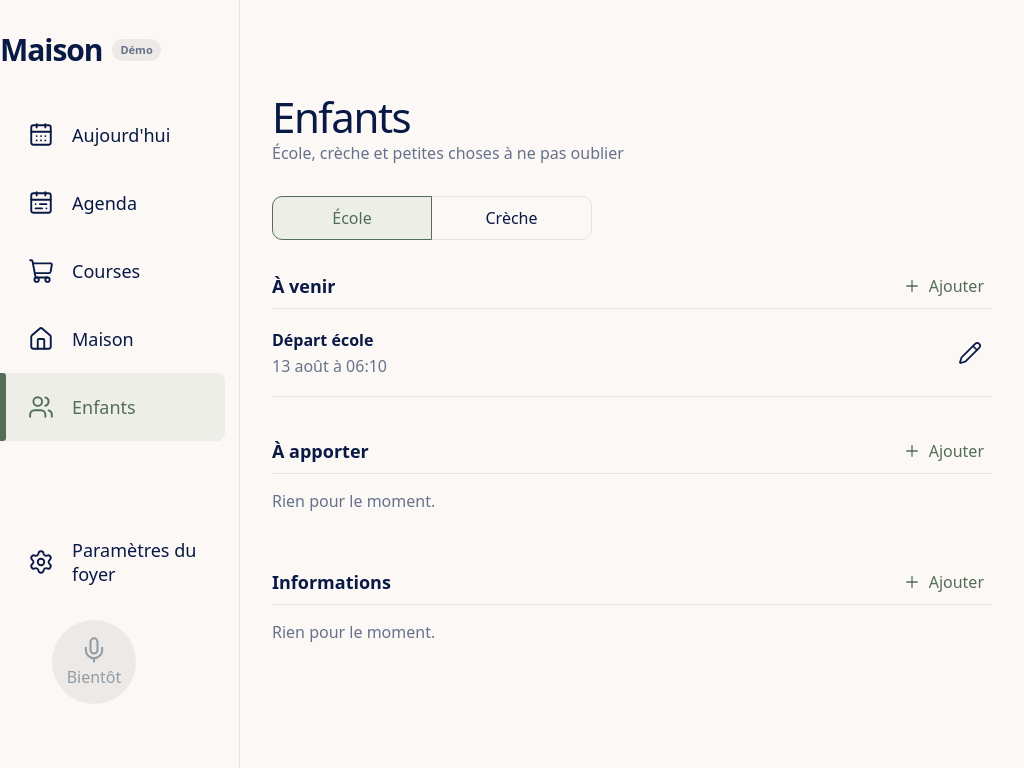
switches École and Crèche and creates an À apporter item locally
This screenshot has width=1024, height=768.
Click the link "Crèche".
click(512, 218)  # box [431, 196, 592, 240]
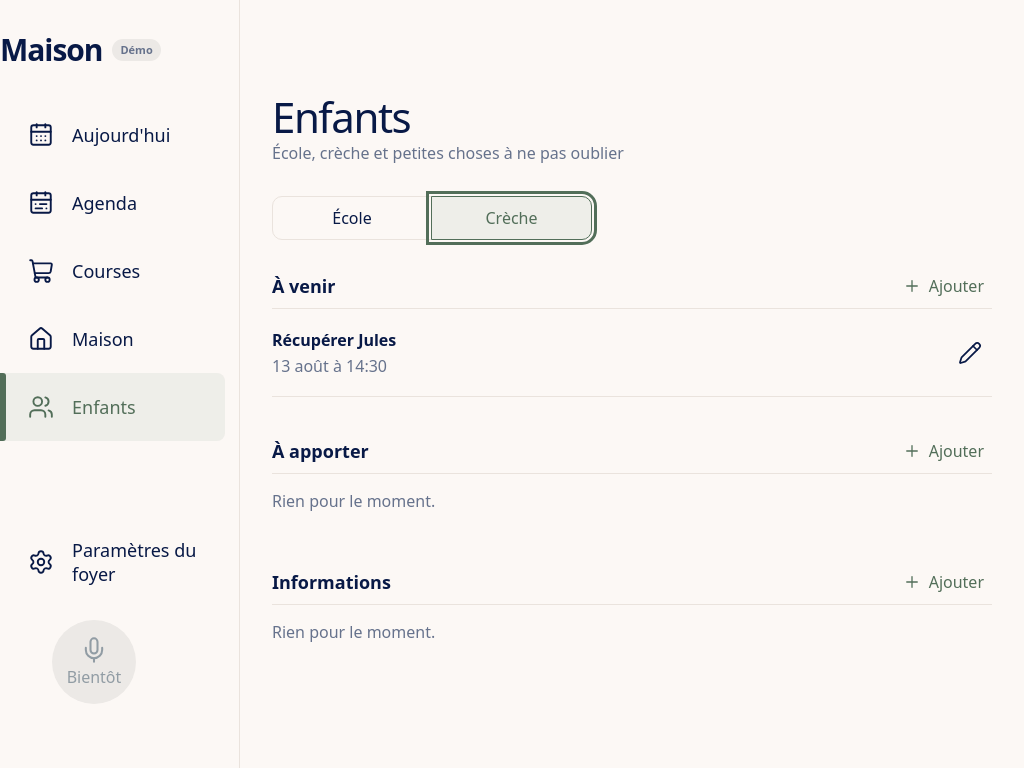
Result: the text "Récupérer Jules" is shown at [272, 328, 396, 350]
Click the link "École".
click(352, 218)  # box [272, 196, 432, 240]
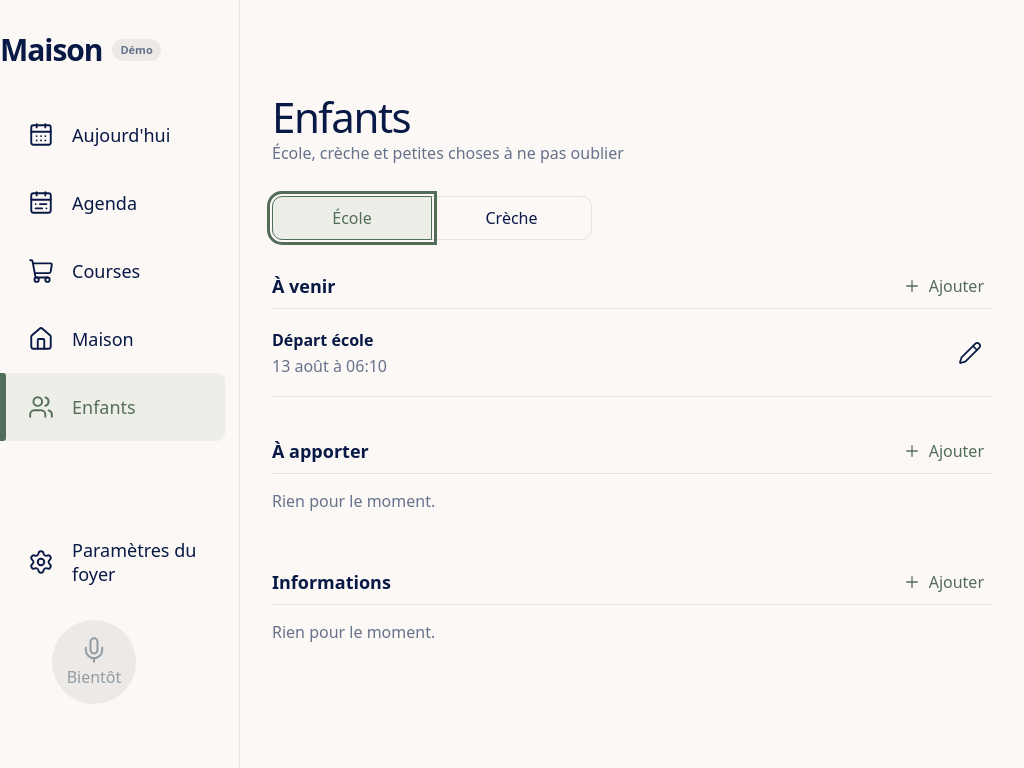
Click the button "Ajouter" in the row of "À apporter".
click(943, 451)  # box [895, 429, 992, 473]
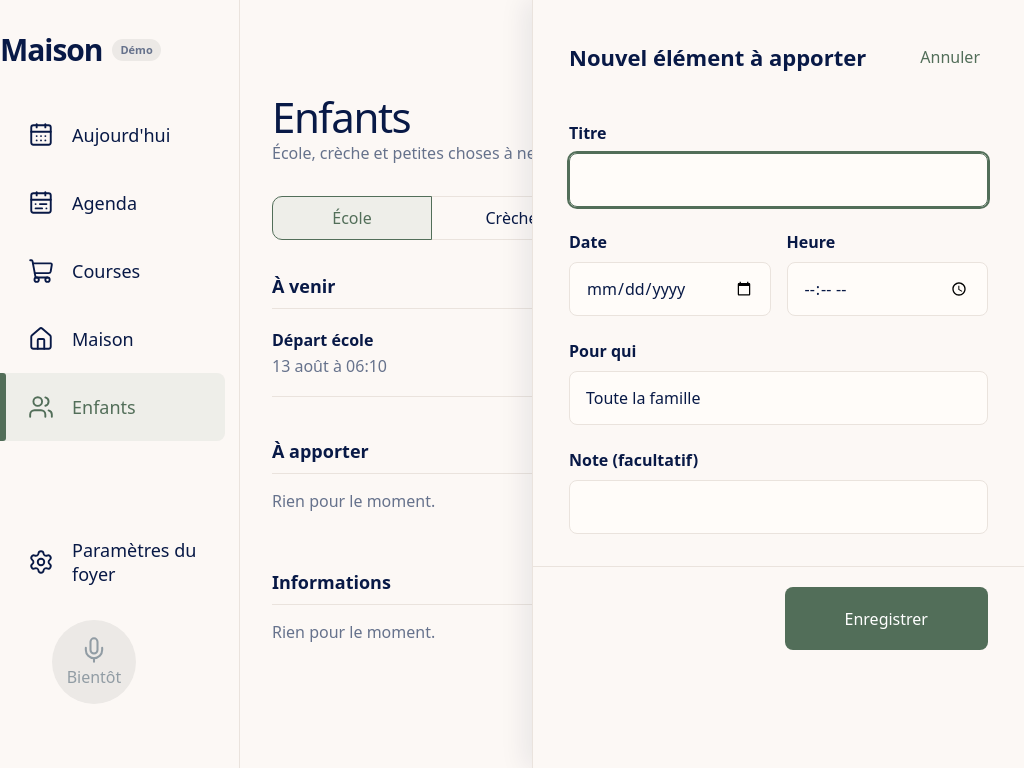
Type "Autorisation signée" into the field labelled "Titre".
click(778, 180); type("Autorisation signée")  # box [569, 153, 988, 207]
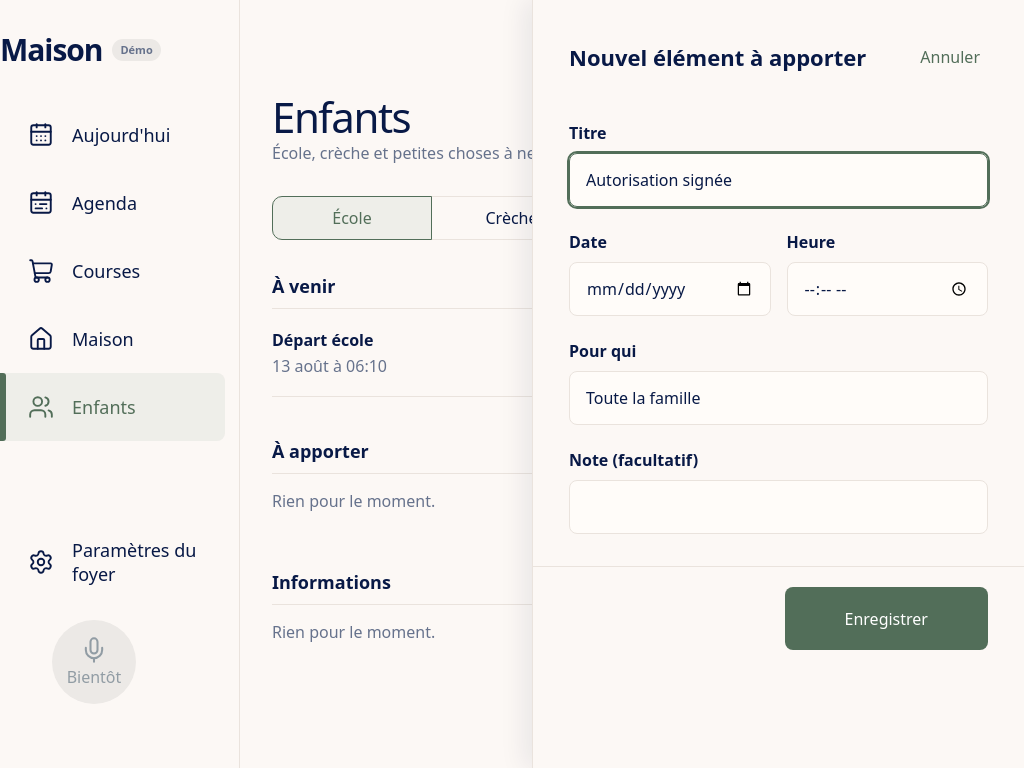
Click the button "Enregistrer".
click(886, 618)  # box [784, 587, 988, 650]
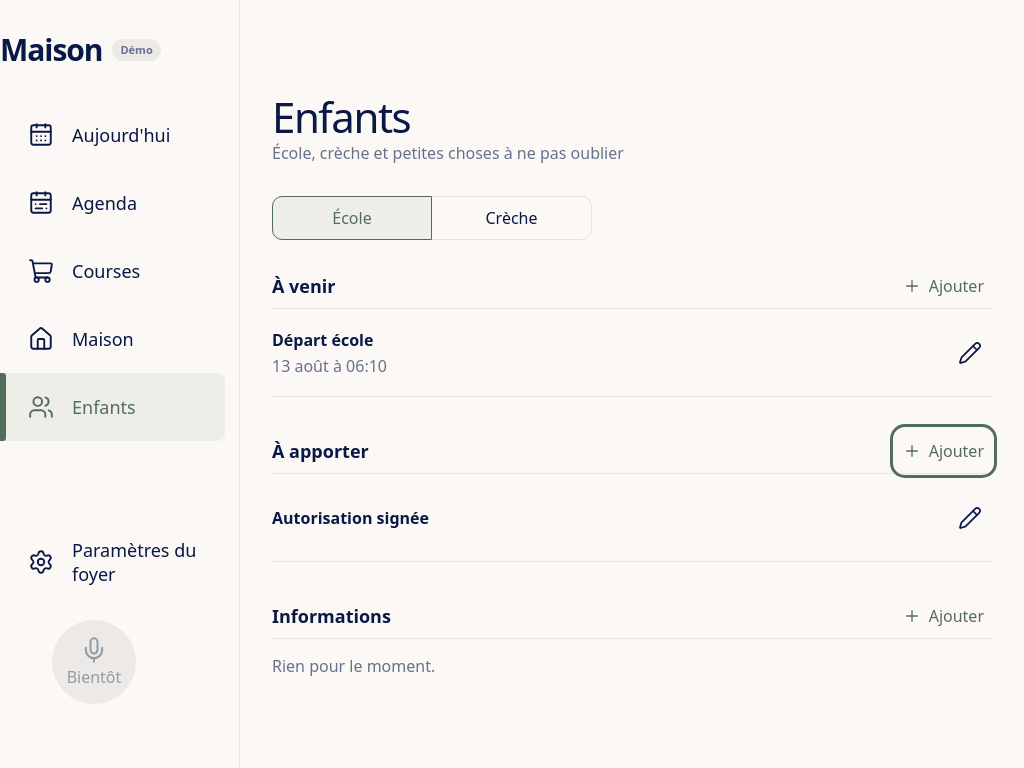
Result: the text "Autorisation signée" is shown at [272, 506, 429, 528]
